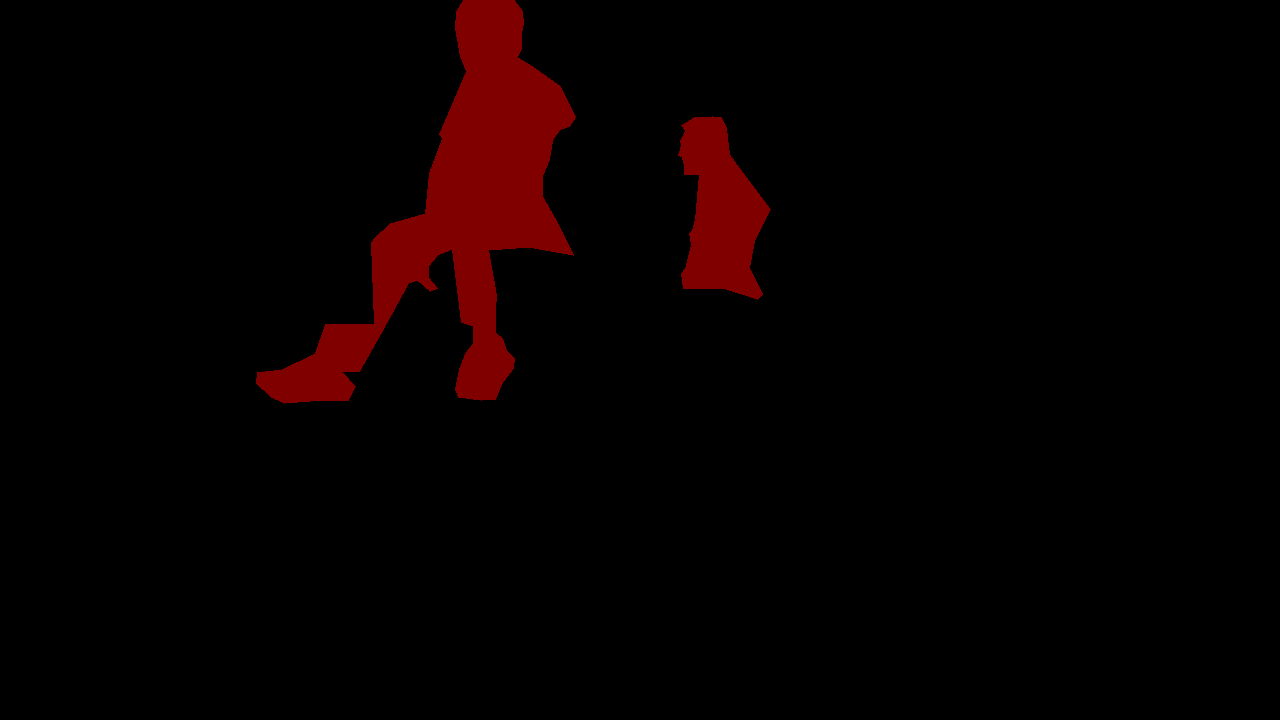person: (256, 0, 575, 403), (678, 116, 770, 299)
